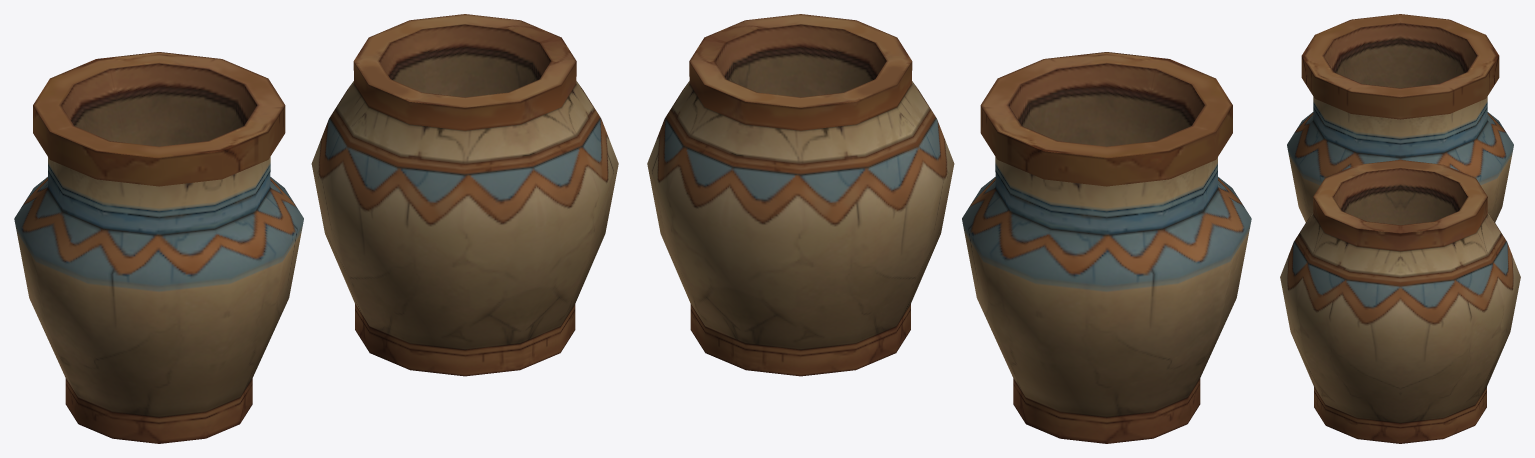
Rendered from 2_SM_GuanZi_01.FBX.
3 renders of one model, left to right at view 1: azimuth 30°, elevation 25°; view 2: azimuth 150°, elevation 25°; view 3: azimuth 270°, elevation 25°, orthographic. The views are drawn at different scales.
Visible parts, largest first — view 1: 2_SM_GuanZi_01, 2_SM_GuanZi_02; view 2: 2_SM_GuanZi_01, 2_SM_GuanZi_02; view 3: 2_SM_GuanZi_02, 2_SM_GuanZi_01.
Boxes of the visible parts, x1,y1,x2,y2 form: 2_SM_GuanZi_01: [14, 52, 303, 443]; 2_SM_GuanZi_02: [311, 14, 618, 376]; 2_SM_GuanZi_01: [962, 52, 1251, 443]; 2_SM_GuanZi_02: [647, 14, 954, 376]; 2_SM_GuanZi_02: [1280, 160, 1520, 443]; 2_SM_GuanZi_01: [1287, 14, 1513, 222].
Bounding box in the file's own units: 538 × 273 × 254.
Materials: 1 (1 with a texture image).
